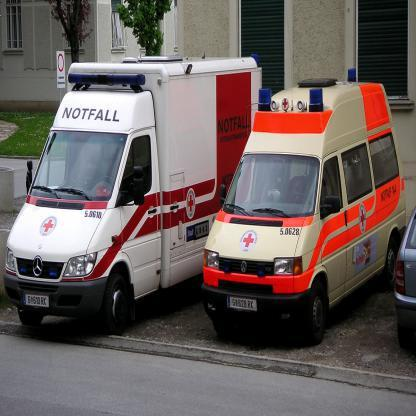ambulance_off: (4, 53, 261, 332), (210, 68, 403, 347)
